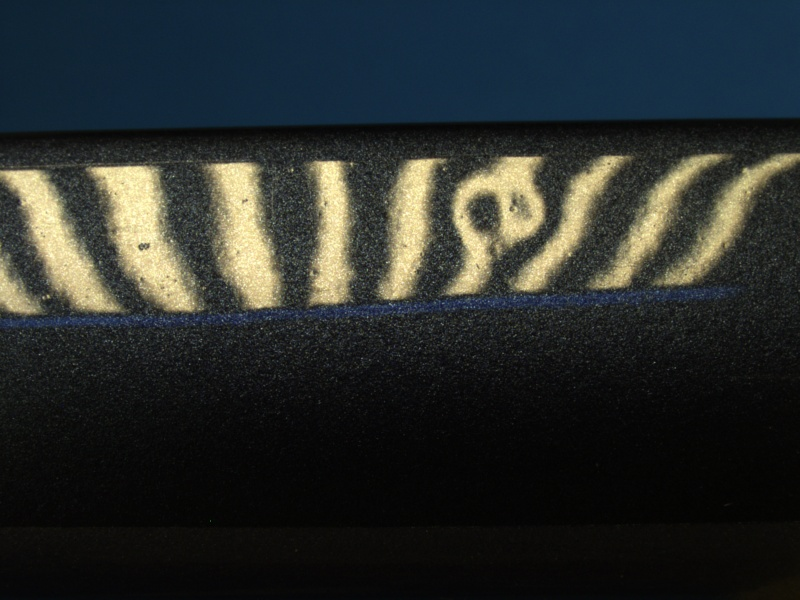bad: (447, 170, 551, 262)
